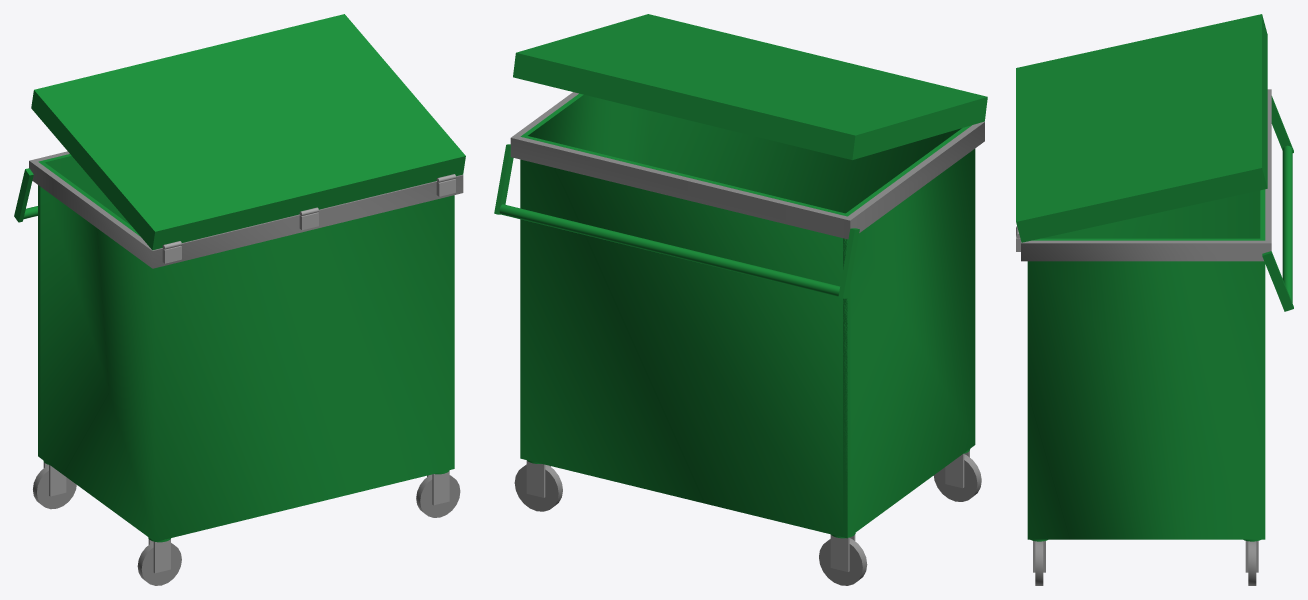
The model's file is Dumpsters.glb.
The picture shows the model from 3 angles, left to right: view 1: azimuth 30°, elevation 25°; view 2: azimuth 150°, elevation 25°; view 3: azimuth 270°, elevation 25°; orthographic projection. The views are drawn at different scales.
Parts seen in each view (by area): view 1: Root; view 2: Root; view 3: Root.
Boxes of the visible parts, bbox=[...] form: Root: bbox=[14, 14, 465, 585]; Root: bbox=[494, 14, 987, 585]; Root: bbox=[1016, 14, 1293, 585].
Bounding box in the file's own units: 1.51 × 1.89 × 1.12.
